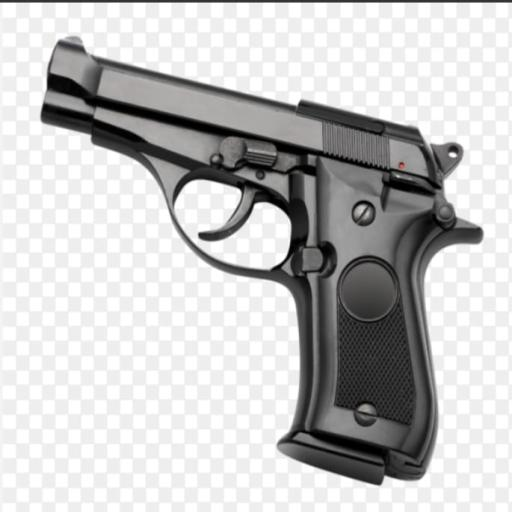Gun: (42, 37, 482, 482)
